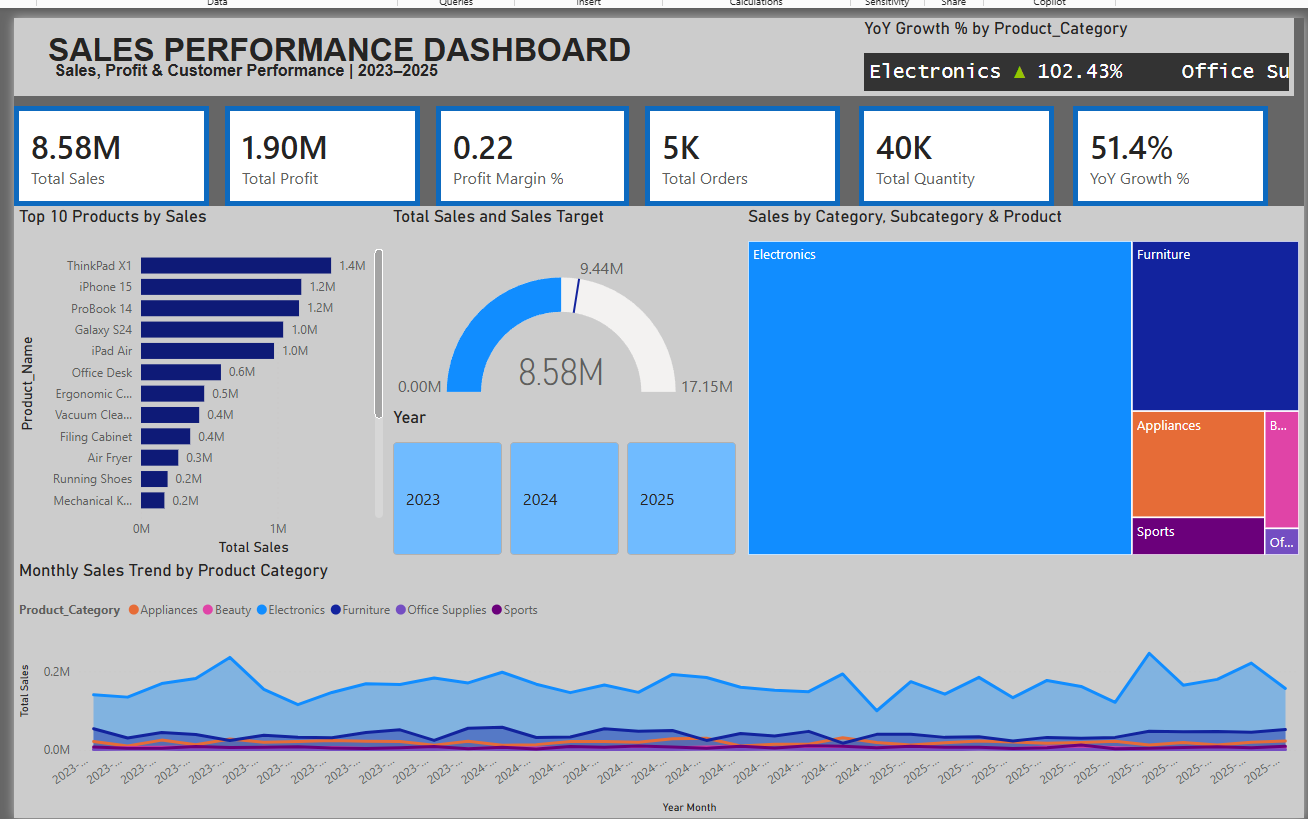

The dashboard page shown, as its layout file describes it:
{"tool":"powerbi","page":{"name":"Executive Sales Overview","canvas":[1290,800],"ordinal":1},"visuals":[{"type":"cardVisual","fields":{"Data":["sales_cleaned.Total Orders"]},"box":[631,88,195,100],"z":0},{"type":"cardVisual","fields":{"Data":["sales_cleaned.Profit Margin %"]},"box":[422,88,193,100],"z":1000},{"type":"textbox","box":[0,0,1280,78],"z":2000},{"type":"cardVisual","fields":{"Data":["sales_cleaned.Total Profit"]},"box":[211,88,195,100],"z":3000},{"type":"cardVisual","fields":{"Data":["sales_cleaned.YoY Growth %"]},"box":[1059,88,195,100],"z":4000},{"type":"cardVisual","fields":{"Data":["sales_cleaned.Total Sales"]},"box":[0,88,195,100],"z":5000},{"type":"cardVisual","fields":{"Data":["Dim_Date.Total Quantity"]},"box":[845,88,195,100],"z":6000},{"type":"treemap","title":"Sales by Category, Subcategory & Product","fields":{"Group":["sales_cleaned.Product_Category","sales_cleaned.Product_Subcategory","sales_cleaned.Product_Name"],"Values":["Sum(sales_cleaned.Net_Sales)"]},"box":[729,188,561,354],"z":7000},{"type":"lineChart","title":"Monthly Sales Trend by Product Category","fields":{"Category":["Dim_Date.Year Month"],"Series":["sales_cleaned.Product_Category"],"Y":["sales_cleaned.Total Sales"]},"box":[0,542,1290,258],"z":8000},{"type":"clusteredBarChart","title":"Top 10 Products by Sales","fields":{"Category":["sales_cleaned.Product_Name"],"Y":["sales_cleaned.Total Sales"]},"box":[0,188,374,354],"z":9000},{"type":"gauge","fields":{"TargetValue":["sales_cleaned.Sales Target"],"Y":["sales_cleaned.Total Sales"]},"box":[374,188,355,203],"z":10000},{"type":"ScrollingTextVisual1448795304508","title":" YoY Growth % by Product_Category","fields":{"Measure Deviation":["sales_cleaned.YoY Growth %"],"Category":["sales_cleaned.Product_Category"]},"box":[845,0,435,78],"z":11000},{"type":"advancedSlicerVisual","fields":{"Values":["Dim_Date.Year"]},"box":[374,389,355,153],"z":12000}]}

Visuals, with their boxes on the page's 1290x800 design canvas (x1, y1, x2, y2). These are canvas units, not pixel positions in the 1308x819 screenshot, which may show the page scaled, cropped or inside an application window:
cardVisual - sales_cleaned.Total Orders: 631 88 826 188
cardVisual - sales_cleaned.Profit Margin %: 422 88 615 188
textbox: 0 0 1280 78
cardVisual - sales_cleaned.Total Profit: 211 88 406 188
cardVisual - sales_cleaned.YoY Growth %: 1059 88 1254 188
cardVisual - sales_cleaned.Total Sales: 0 88 195 188
cardVisual - Dim_Date.Total Quantity: 845 88 1040 188
"Sales by Category, Subcategory & Product" treemap: 729 188 1290 542
"Monthly Sales Trend by Product Category" lineChart: 0 542 1290 800
"Top 10 Products by Sales" clusteredBarChart: 0 188 374 542
gauge - sales_cleaned.Sales Target x sales_cleaned.Total Sales: 374 188 729 391
" YoY Growth % by Product_Category" ScrollingTextVisual1448795304508: 845 0 1280 78
advancedSlicerVisual - Dim_Date.Year: 374 389 729 542
